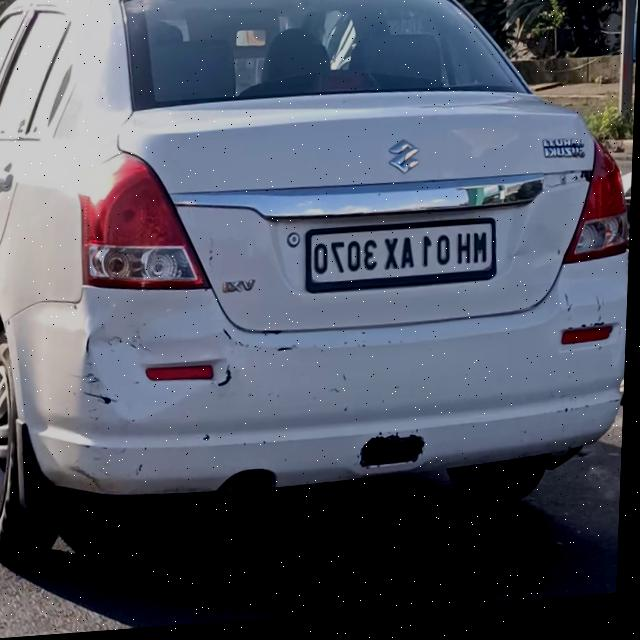plate: (306, 223, 498, 297)
